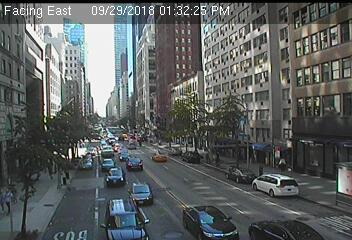car: (183, 204, 240, 240), (103, 199, 149, 240), (250, 219, 323, 240), (253, 173, 299, 198), (226, 166, 258, 185), (129, 183, 154, 205), (105, 167, 126, 186), (126, 157, 144, 172), (182, 150, 200, 164), (101, 158, 114, 170), (152, 153, 168, 162), (80, 160, 94, 170), (168, 147, 182, 156)
